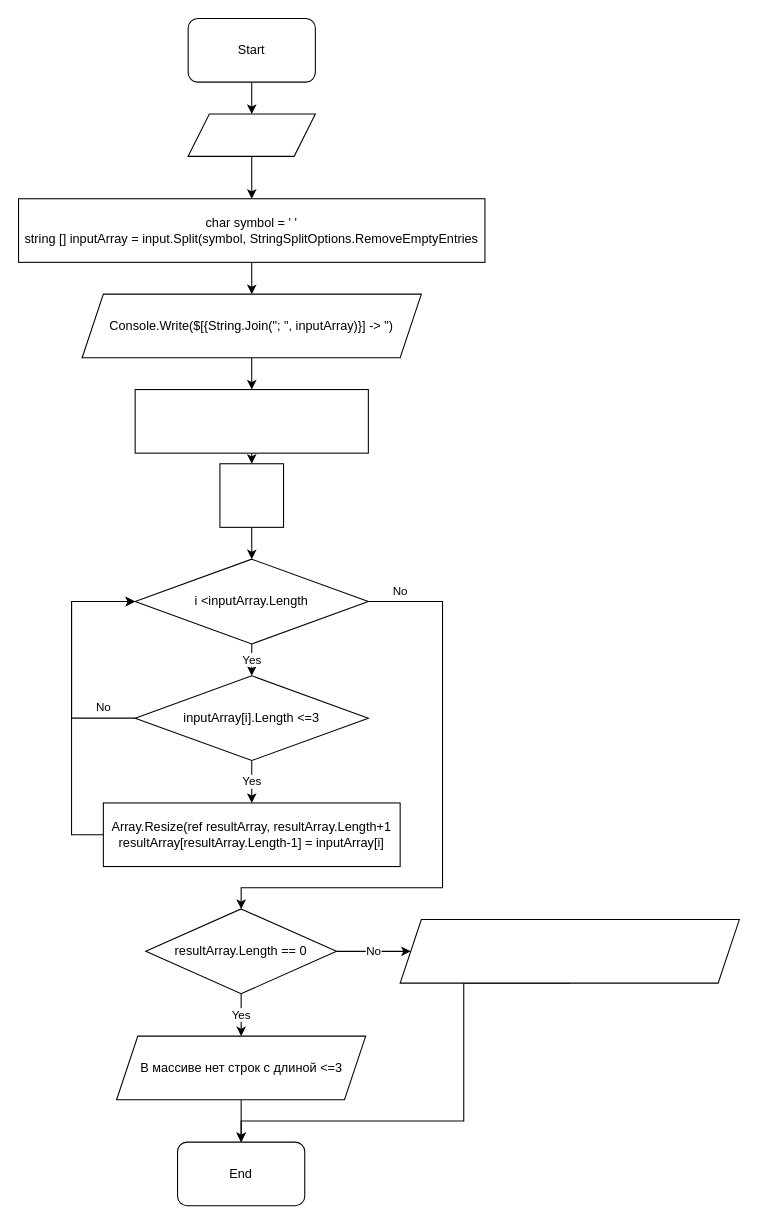
Image size: 758x1224. Some labels were removed from this diagram. Here are the shapes that lost their labels. From the top down, the box of each, then its label:
(187, 113, 315, 156): string input
(134, 388, 368, 453): size = 0 string [] resultArray = new string [size]
(219, 463, 284, 527): i=0
(399, 918, 739, 983): Console.WriteLine($[{String.Join("; ", resultArray)}]")
